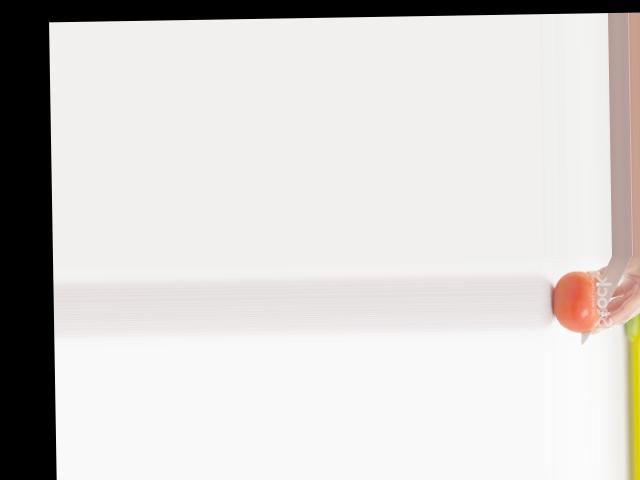tomato: (551, 269, 600, 333)
